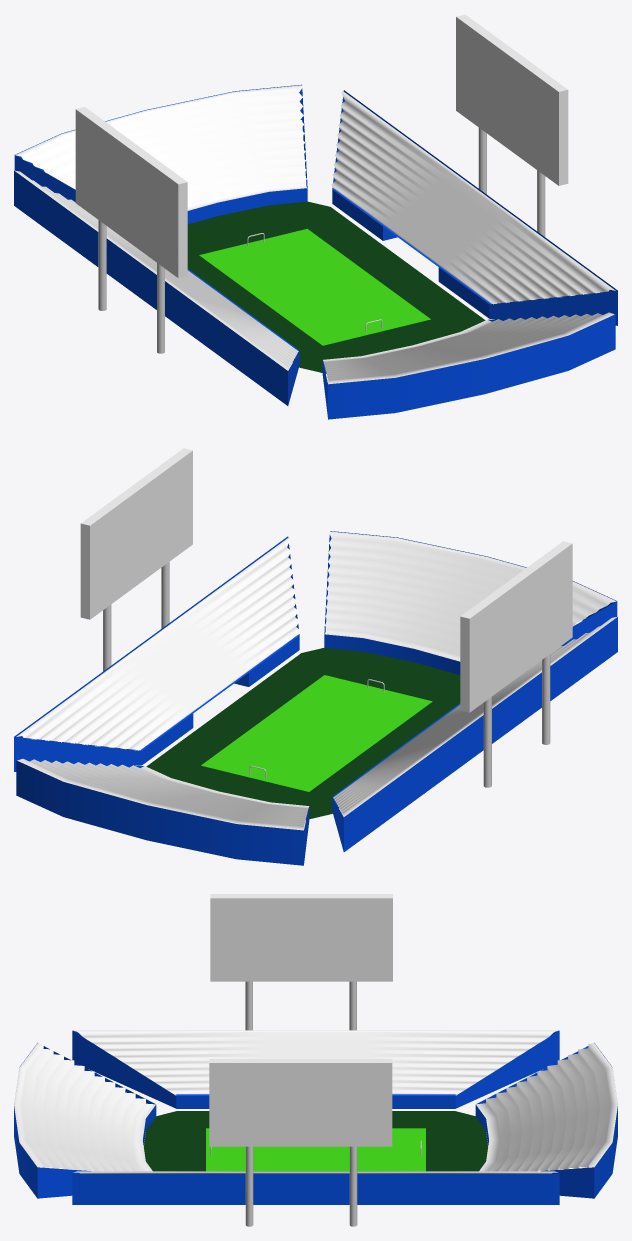
File: gawang.fbx
The picture shows the model from 3 angles, top to bottom: view 1: azimuth 30°, elevation 25°; view 2: azimuth 150°, elevation 25°; view 3: azimuth 270°, elevation 25°; orthographic projection. The views are drawn at different scales.
Parts seen in each view (by area): view 1: Object011, Object008, Object002, Plane001, Box001, Box002, Object005, Object003, Object006, Object010, Object009, Object007 (+4 smaller); view 2: Object011, Object006, Object002, Plane001, Box001, Box002, Object007, Object003, Object008, Object010, Object009, Object005 (+2 smaller); view 3: Object009, Box002, Box001, Object010, Object008, Object006, Object002, Object003, Plane001, Object005, Object007, Object011 (+2 smaller).
Boxes of the visible parts, x1,y1,x2,y2 form: Object011: (331, 90, 615, 304); Object008: (15, 85, 306, 210); Object002: (187, 201, 485, 372); Plane001: (199, 228, 430, 345); Box001: (75, 107, 187, 278); Box002: (456, 14, 568, 185); Object005: (322, 314, 615, 419); Object003: (14, 170, 299, 405); Object006: (323, 312, 614, 384); Object010: (332, 90, 617, 325); Object009: (14, 170, 298, 370); Object007: (14, 84, 307, 224); Object011: (16, 537, 300, 750); Object006: (324, 531, 616, 661); Object002: (146, 647, 460, 819); Plane001: (201, 675, 432, 791); Box001: (460, 541, 572, 712); Box002: (80, 448, 192, 619); Object007: (16, 760, 309, 865); Object003: (332, 617, 617, 851); Object008: (17, 758, 309, 830); Object010: (14, 536, 299, 771); Object009: (333, 616, 617, 816); Object005: (324, 531, 617, 674); Object009: (72, 1030, 559, 1095); Box002: (209, 1059, 392, 1146); Box001: (210, 894, 392, 981); Object010: (72, 1173, 559, 1204); Object008: (476, 1043, 617, 1171); Object006: (14, 1043, 155, 1171); Object002: (144, 1111, 487, 1171); Object003: (72, 1030, 559, 1108); Plane001: (206, 1128, 425, 1171); Object005: (14, 1043, 156, 1198); Object007: (475, 1043, 617, 1198); Object011: (73, 1171, 558, 1173).
Bounding box in the file's own units: 2695 × 1294 × 4075.
